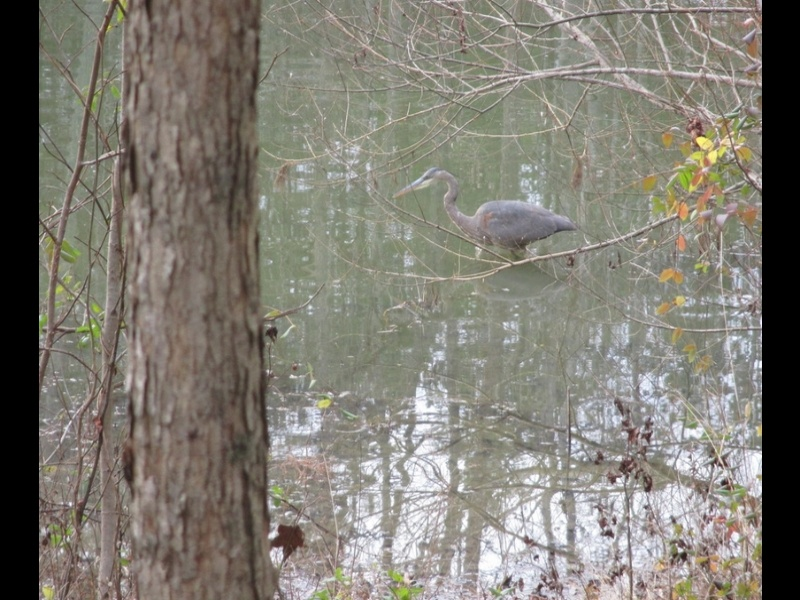heron: (395, 167, 578, 259)
